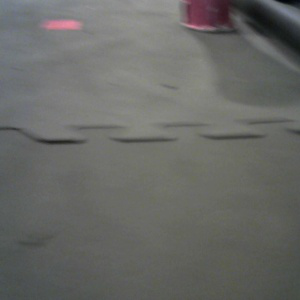right: (180, 1, 238, 32)
